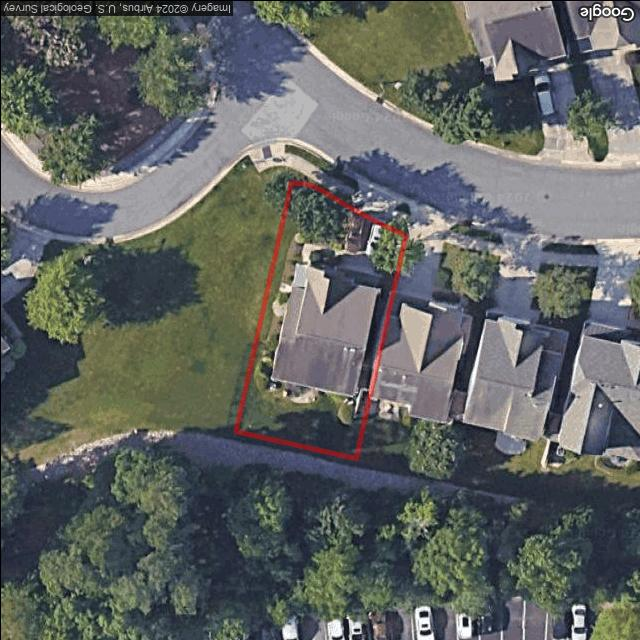Driveway: (338, 207, 390, 283)
Extra-Driveway: (351, 176, 402, 228)
Extra-Lawn: (294, 147, 358, 191), (288, 168, 354, 207), (386, 219, 407, 235), (392, 201, 409, 214)
Extra-Sidewalk: (246, 143, 357, 199), (389, 209, 409, 226)
House: (267, 261, 382, 397)
Lawn: (235, 182, 406, 457)
Other: (250, 229, 313, 405), (280, 381, 319, 402), (347, 385, 368, 416), (309, 250, 340, 266)
Sidewalk: (301, 243, 341, 262)
